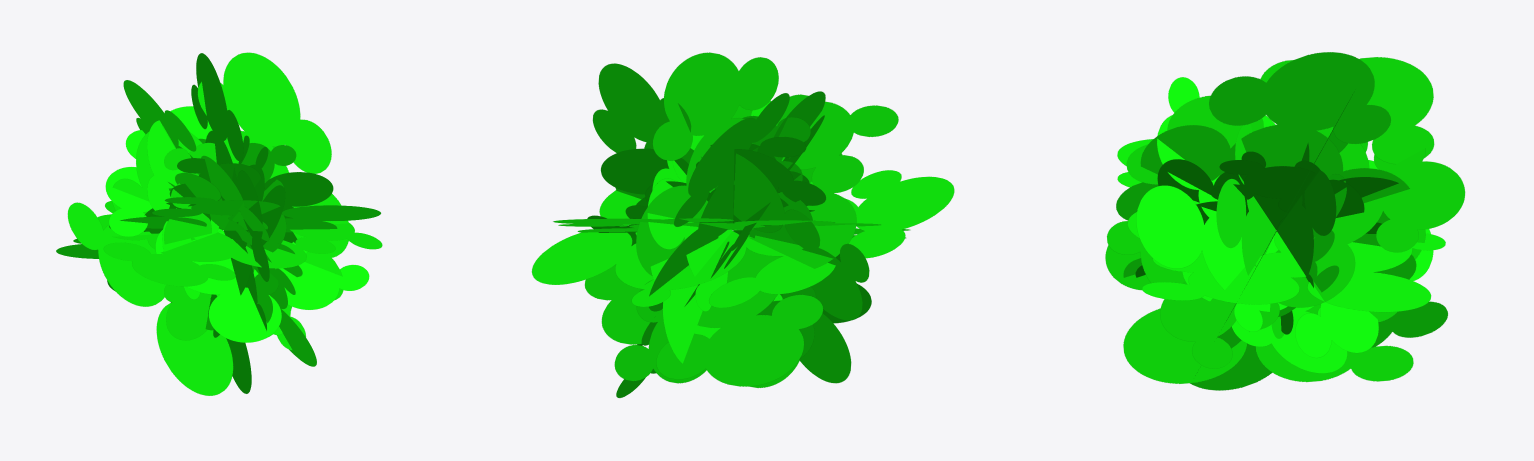
Rendered from leaf_test.glb.
The picture shows the model from 3 angles, left to right: view 1: azimuth 30°, elevation 25°; view 2: azimuth 150°, elevation 25°; view 3: azimuth 270°, elevation 25°; orthographic projection. The views are drawn at different scales.
Parts seen in each view (by area): view 1: Plane; view 2: Plane; view 3: Plane.
Boxes of the visible parts, box(x1,y1,x2,y2) form: Plane: box(56, 52, 382, 395); Plane: box(531, 52, 954, 397); Plane: box(1105, 52, 1465, 390).
Size of the model in its own units: 3.6 by 3.71 by 3.66.
Materials: 1 (1 with a texture image).
